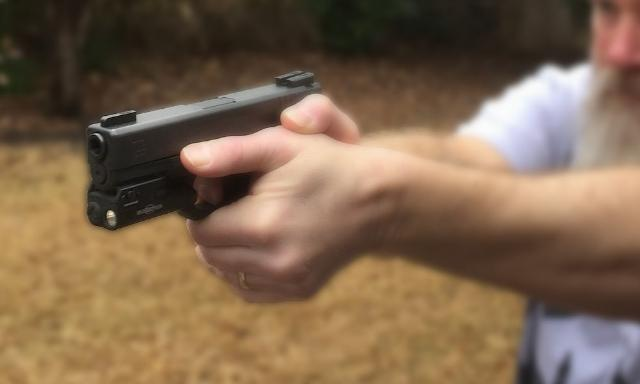handgun: (81, 66, 329, 234)
